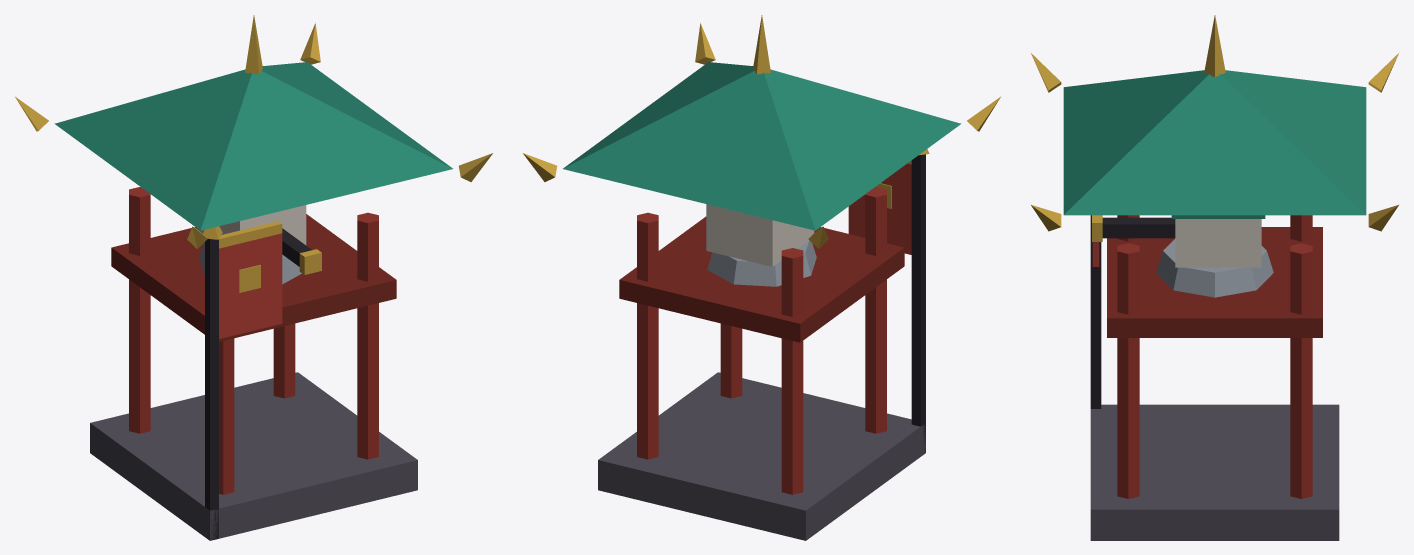
The model's file is tower_t1.glb.
The picture shows the model from 3 angles, left to right: view 1: azimuth 30°, elevation 25°; view 2: azimuth 150°, elevation 25°; view 3: azimuth 270°, elevation 25°; orthographic projection. The views are drawn at different scales.
Parts seen in each view (by area): view 1: body, part_turret; view 2: body, part_turret; view 3: body, part_turret.
Boxes of the visible parts, x1,y1,x2,y2 form: body: [15, 15, 492, 540]; part_turret: [198, 205, 321, 284]; body: [523, 15, 1000, 540]; part_turret: [706, 204, 816, 286]; body: [1031, 15, 1398, 540]; part_turret: [1092, 215, 1273, 297].
Size of the model in its own units: 1.67 by 2.42 by 1.71.
